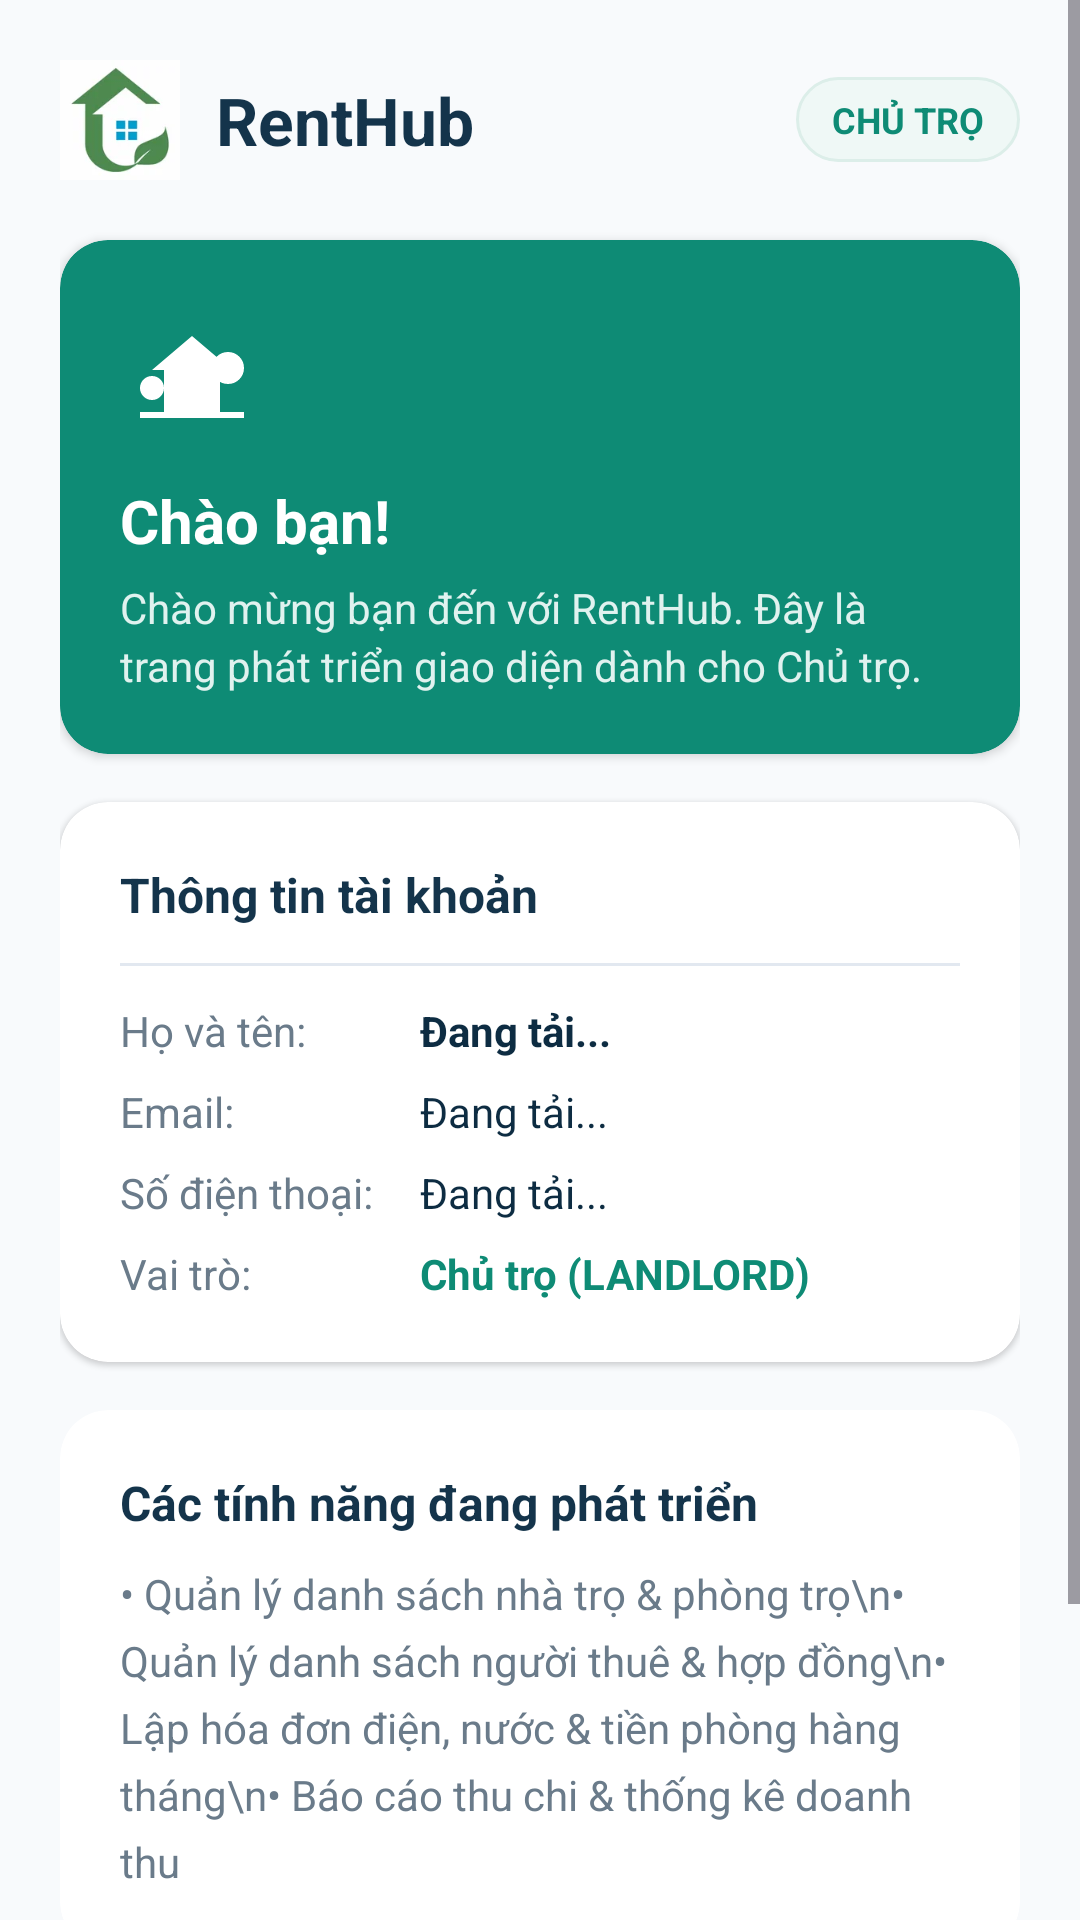

Icon bounding boxes for this 1080px x 1920px phone screenshot, format (x1, y1, x2, y2):
role landlord: (140, 336, 244, 418)
